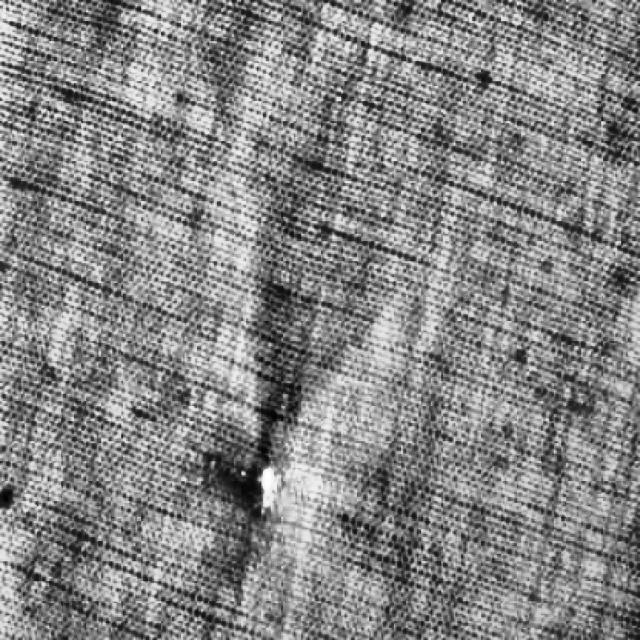hole: (241, 452, 285, 522)
